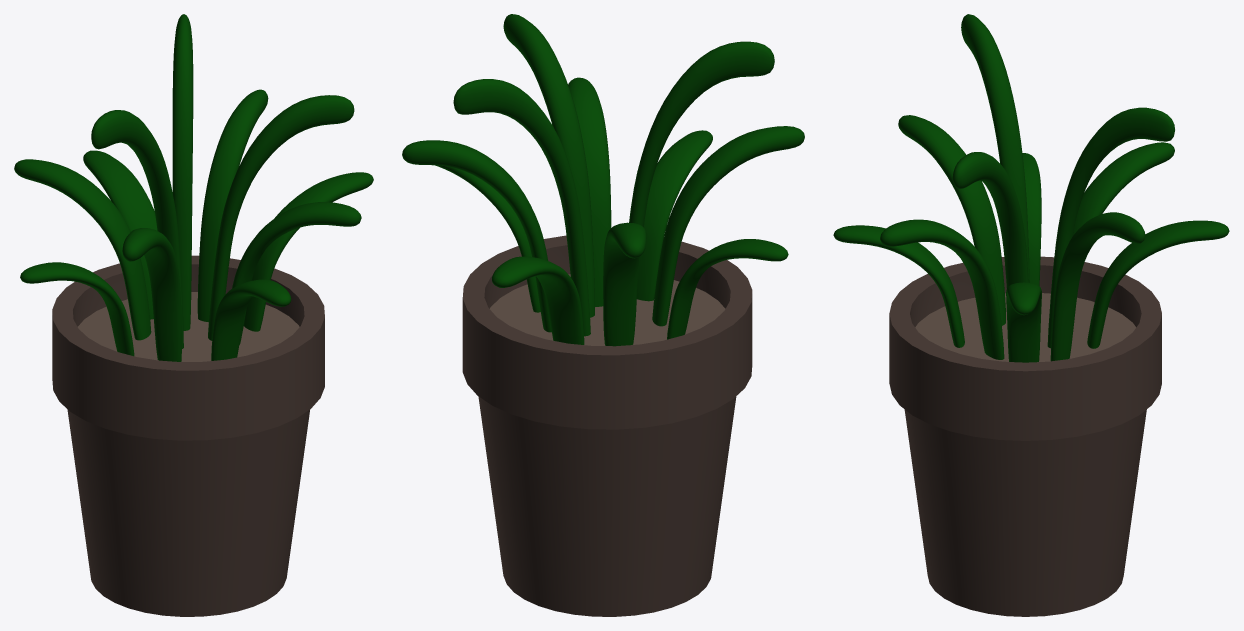
The model's file is Plante1_7.fbx.
3 renders of one model, left to right at view 1: azimuth 30°, elevation 25°; view 2: azimuth 150°, elevation 25°; view 3: azimuth 270°, elevation 25°, orthographic. The views are drawn at different scales.
Visible parts, largest first — view 1: pCylinder732, pCube1946, pCube1949, pCube1943, pCube1948, pCylinder733, pCube1950, pCube1941, pCube1942, pCube1947, pCube1944, pCube1945 (+1 smaller); view 2: pCylinder732, pCube1949, pCube1950, pCube1946, pCube1941, pCylinder733, pCube1943, pCube1945, pCube1947, pCube1948, pCube1942, pCube1940 (+1 smaller); view 3: pCylinder732, pCylinder733, pCube1949, pCube1950, pCube1941, pCube1947, pCube1943, pCube1946, pCube1942, pCube1948, pCube1945, pCube1944 (+1 smaller).
Part boxes in pixels (box(x1,y1,x2,y2)): pCylinder732: box(52, 255, 324, 616); pCube1946: box(208, 95, 354, 340); pCube1949: box(172, 14, 193, 330); pCube1943: box(197, 89, 268, 322); pCube1948: box(14, 159, 151, 340); pCylinder733: box(78, 292, 299, 361); pCube1950: box(91, 110, 183, 348); pCube1941: box(122, 228, 181, 361); pCube1942: box(83, 150, 157, 319); pCube1947: box(232, 202, 361, 344); pCube1944: box(243, 172, 373, 331); pCube1945: box(211, 279, 291, 360); pCylinder732: box(462, 235, 752, 616); pCube1949: box(453, 79, 590, 336); pCube1950: box(629, 41, 774, 287); pCube1946: box(503, 14, 594, 317); pCube1941: box(652, 126, 804, 326); pCylinder733: box(490, 274, 725, 345); pCube1943: box(402, 140, 551, 332); pCube1945: box(636, 130, 712, 301); pCube1947: box(568, 77, 611, 306); pCube1948: box(603, 222, 646, 346); pCube1942: box(492, 256, 584, 344); pCube1940: box(667, 239, 788, 339); pCylinder732: box(889, 256, 1161, 616); pCylinder733: box(915, 293, 1135, 361); pCube1949: box(1047, 107, 1174, 348); pCube1950: box(961, 14, 1029, 282); pCube1941: box(898, 115, 1005, 325); pCube1947: box(880, 219, 1004, 359); pCube1943: box(1050, 212, 1145, 361); pCube1946: box(952, 152, 1028, 287); pCube1942: box(1087, 220, 1229, 348); pCube1948: box(1073, 142, 1174, 235); pCube1945: box(833, 225, 964, 347); pCube1944: box(1006, 282, 1041, 362).
Size of the model in its own units: 16.65 by 22.94 by 16.27.
